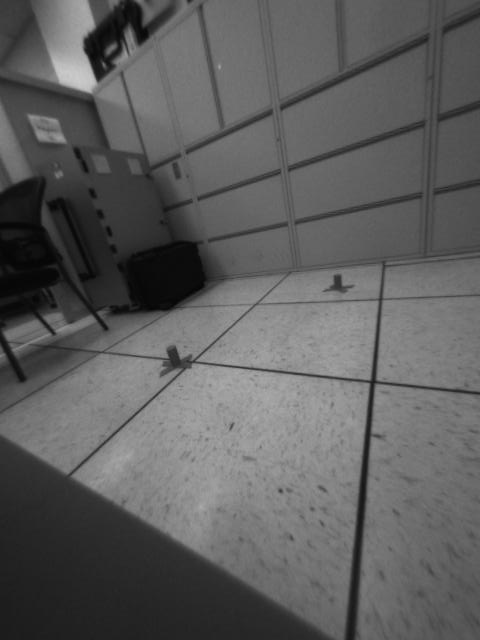X: (159, 339, 193, 377), (320, 269, 355, 293)
